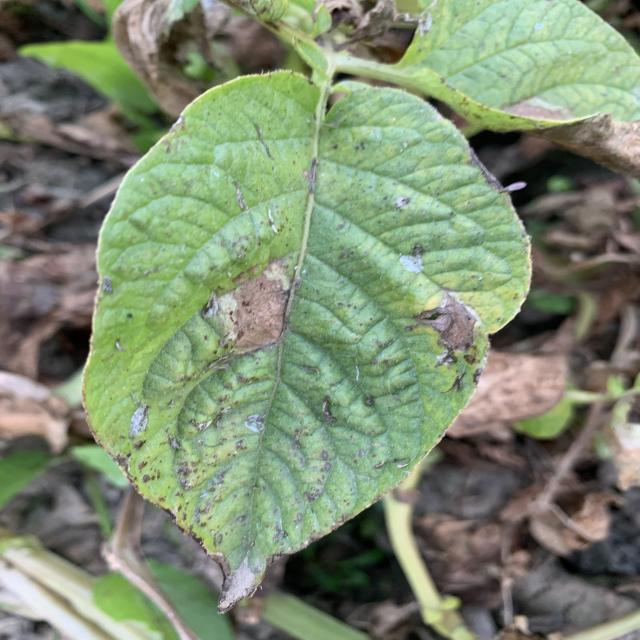lateblight: (197, 256, 292, 372), (415, 290, 478, 365)
